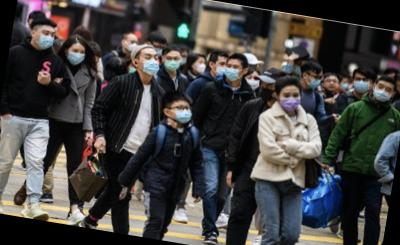with_mask: (278, 88, 303, 115), (139, 52, 163, 78), (256, 80, 278, 105), (173, 102, 195, 126), (35, 26, 56, 51), (372, 81, 394, 104), (66, 45, 87, 68), (223, 62, 243, 84), (306, 72, 325, 93), (162, 54, 182, 73), (244, 73, 263, 93), (352, 75, 372, 94), (291, 58, 306, 77), (213, 60, 227, 77), (126, 38, 140, 54), (194, 59, 208, 74), (153, 44, 166, 56), (339, 79, 350, 92), (179, 51, 188, 66)
without_mask: (323, 77, 341, 93)
